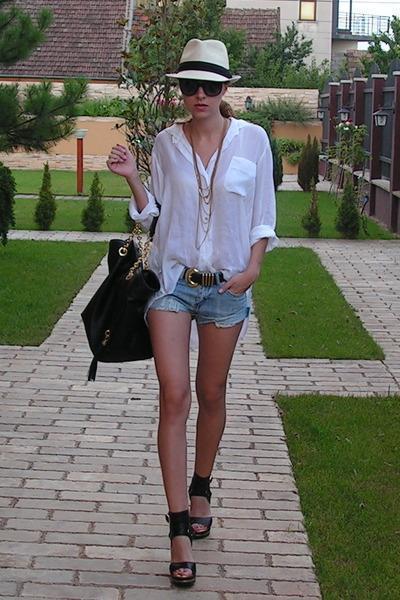bag: (81, 209, 165, 380)
hat: (166, 39, 240, 81)
shirt: (129, 118, 275, 283)
shoe: (156, 471, 213, 587)
shorts: (150, 276, 254, 335)
sunglass: (174, 61, 234, 96)
